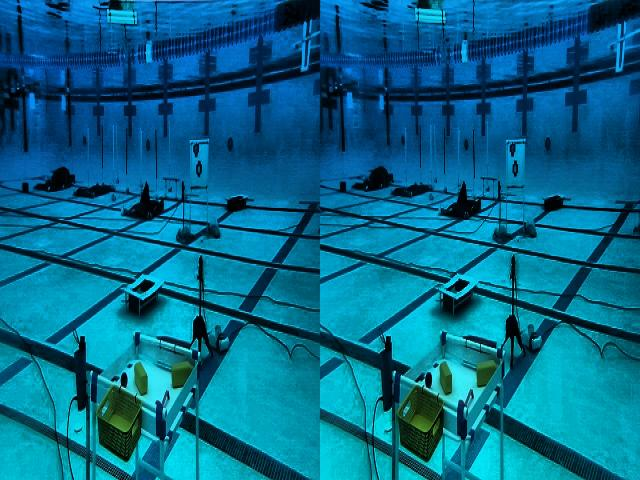gate: (339, 84, 392, 152), (21, 83, 72, 152)
octagon_table: (378, 321, 507, 480), (70, 325, 202, 480)
octagon_top: (607, 28, 640, 75), (292, 28, 320, 74)
path_marker: (162, 176, 181, 203), (480, 176, 498, 201)
